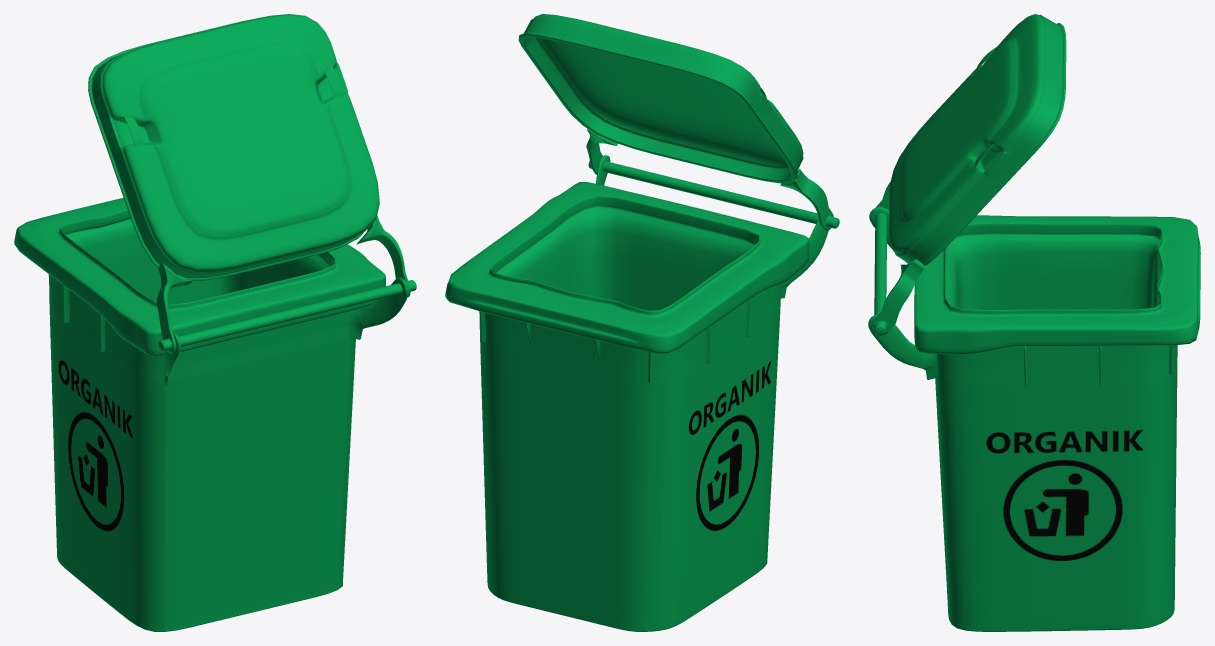
Rendered from trash-organik.fbx.
3 renders of one model, left to right at view 1: azimuth 30°, elevation 25°; view 2: azimuth 150°, elevation 25°; view 3: azimuth 270°, elevation 25°, orthographic. The views are drawn at different scales.
Parts seen in each view (by area): view 1: BinBaseRim.007, BinBaseRim.008; view 2: BinBaseRim.007, BinBaseRim.008; view 3: BinBaseRim.007, BinBaseRim.008.
Boxes of the visible parts, x1,y1,x2,y2 form: BinBaseRim.007: [14, 197, 416, 631]; BinBaseRim.008: [88, 14, 410, 353]; BinBaseRim.007: [445, 155, 839, 631]; BinBaseRim.008: [518, 14, 833, 230]; BinBaseRim.007: [868, 207, 1200, 631]; BinBaseRim.008: [871, 14, 1066, 335].
Bounding box in the file's own units: 252 × 521 × 295.
